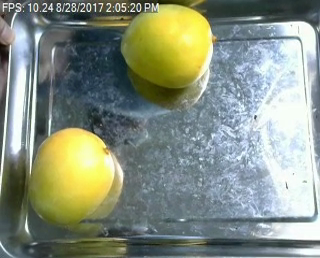Mango: (16, 122, 119, 226), (119, 7, 218, 91)
